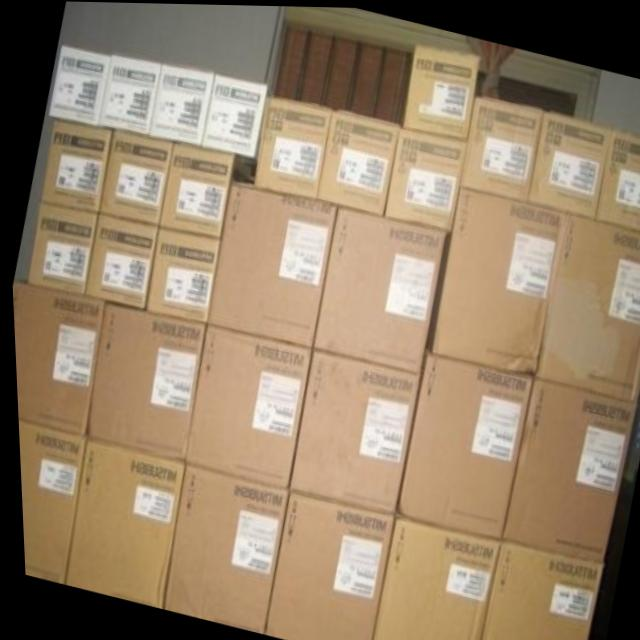box: (393, 349, 530, 538), (427, 185, 566, 369), (497, 376, 633, 560), (309, 204, 444, 371), (203, 179, 335, 346), (284, 348, 416, 512), (157, 462, 284, 632), (180, 323, 309, 486), (59, 436, 180, 606), (531, 211, 640, 399), (259, 490, 389, 640), (82, 300, 203, 459), (367, 513, 495, 640), (10, 280, 103, 435), (476, 538, 598, 640), (15, 419, 83, 582), (526, 107, 610, 217), (458, 92, 543, 199), (157, 141, 251, 236), (314, 107, 398, 213), (382, 126, 465, 229), (251, 95, 331, 197), (200, 71, 273, 173), (402, 41, 479, 137), (81, 212, 156, 310), (142, 225, 217, 322), (97, 129, 172, 224), (38, 118, 110, 211), (24, 202, 95, 295), (147, 62, 213, 145), (96, 53, 161, 134), (47, 45, 110, 125), (593, 125, 640, 229)
